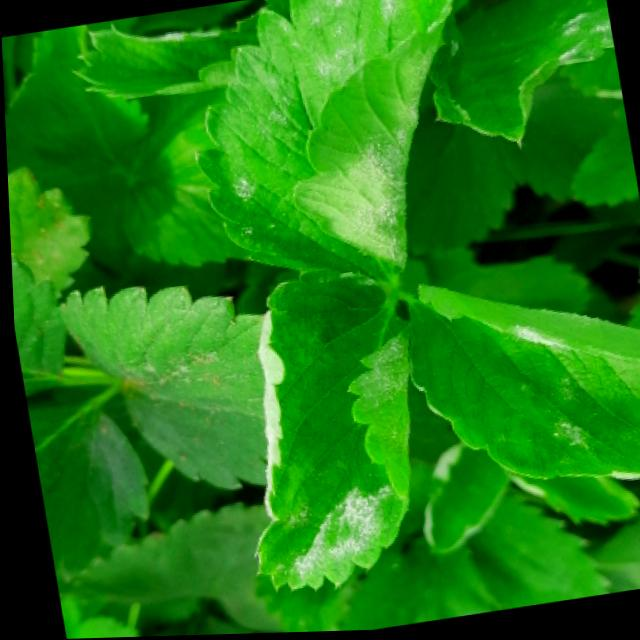Powdery Mildew Leaf: (192, 0, 452, 289), (247, 265, 406, 594), (400, 285, 640, 485), (425, 0, 613, 151)
